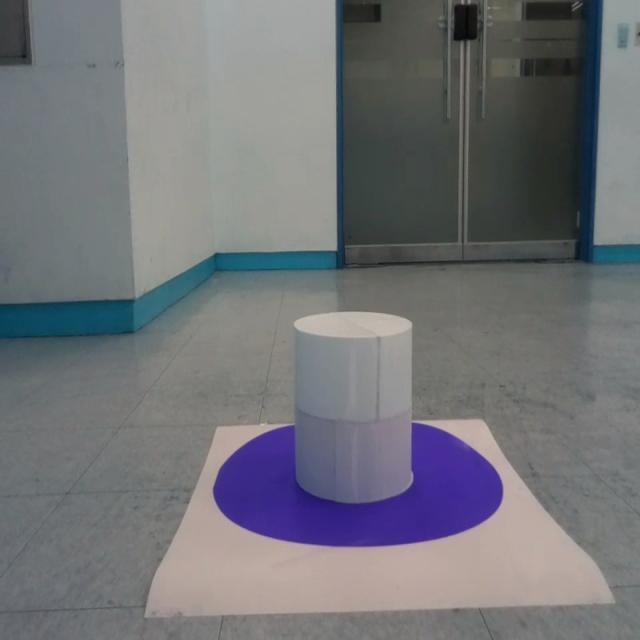cylinder: (291, 311, 413, 505)
